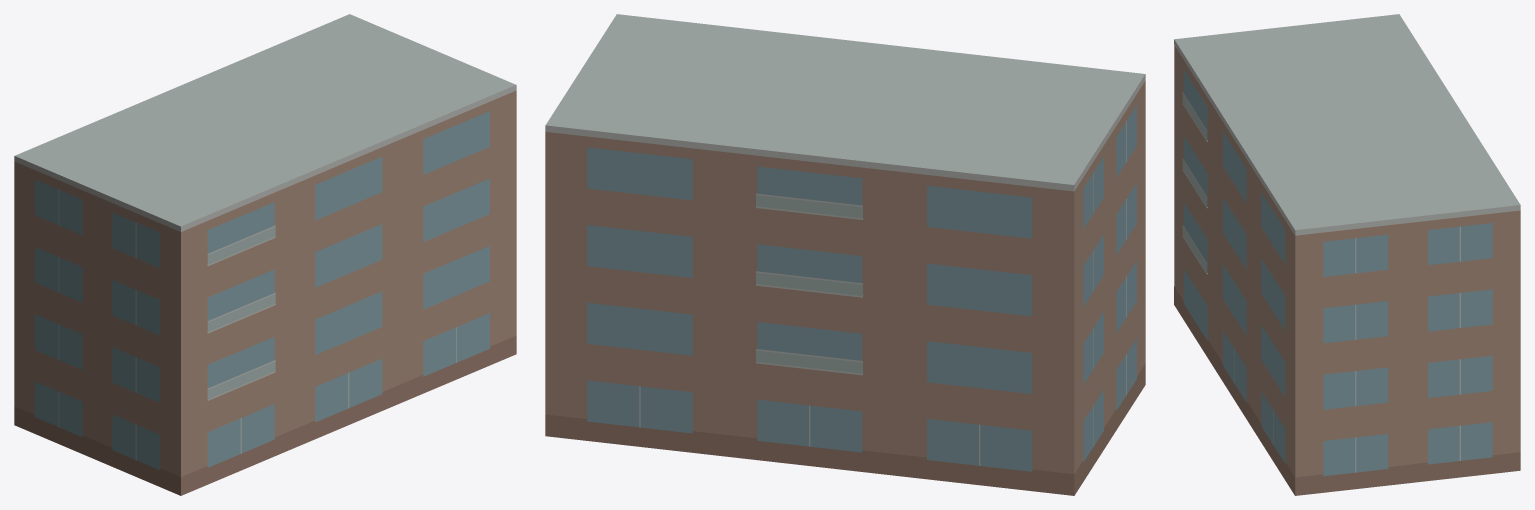
File: survey-upis-32980744.glb
The picture shows the model from 3 angles, left to right: view 1: azimuth 30°, elevation 25°; view 2: azimuth 150°, elevation 25°; view 3: azimuth 270°, elevation 25°; orthographic projection. The views are drawn at different scales.
Visible parts, largest first — view 1: survey-upis-32980744.tmp; view 2: survey-upis-32980744.tmp; view 3: survey-upis-32980744.tmp.
Part boxes in pixels (x1,y1,x2,y2): survey-upis-32980744.tmp: [14, 14, 516, 495]; survey-upis-32980744.tmp: [545, 14, 1145, 495]; survey-upis-32980744.tmp: [1174, 14, 1520, 495].
Size of the model in its own units: 20.79 by 11.9 by 14.08.
